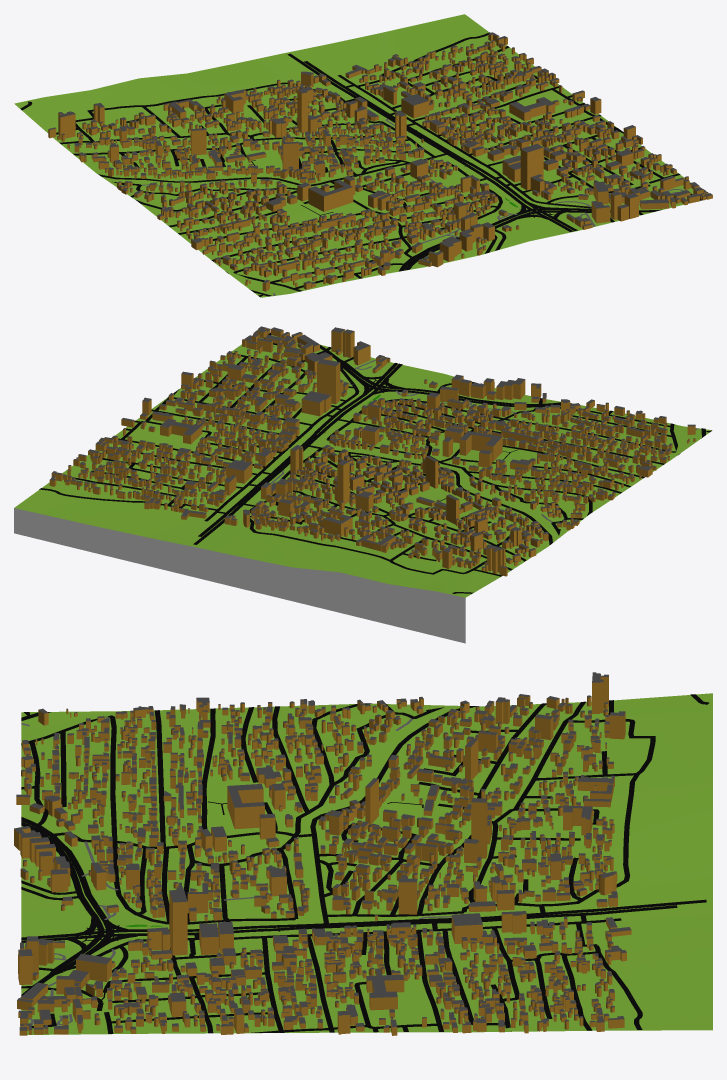
Rendered from tile_05_07.glb.
3 views of the same model, one above another, from view 1: azimuth 30°, elevation 25°; view 2: azimuth 150°, elevation 25°; view 3: azimuth 270°, elevation 25° (orthographic). The views are drawn at different scales.
Visible parts, largest first — view 1: Ub_small.osm_buildings_05_07, Terrain_05_07, Ub_small.osm_roads_residential_05_07, Ub_small.osm_roads_secondary_05_07, Ub_small.osm_roads_primary_05_07, Ub_small.osm_roads_tertiary_05_07; view 2: Ub_small.osm_buildings_05_07, Terrain_05_07, Ub_small.osm_roads_residential_05_07, Ub_small.osm_roads_secondary_05_07, Ub_small.osm_roads_primary_05_07; view 3: Ub_small.osm_buildings_05_07, Terrain_05_07, Ub_small.osm_roads_residential_05_07, Ub_small.osm_roads_secondary_05_07, Ub_small.osm_roads_primary_05_07, Ub_small.osm_roads_tertiary_05_07, Ub_small.osm_roads_service_05_07.
Boxes of the visible parts, x1=… form: Ub_small.osm_buildings_05_07: x1=48, y1=32, x2=712, y2=291; Terrain_05_07: x1=14, y1=14, x2=700, y2=297; Ub_small.osm_roads_residential_05_07: x1=20, y1=32, x2=702, y2=296; Ub_small.osm_roads_secondary_05_07: x1=251, y1=53, x2=577, y2=296; Ub_small.osm_roads_primary_05_07: x1=398, y1=202, x2=661, y2=271; Ub_small.osm_roads_tertiary_05_07: x1=98, y1=153, x2=446, y2=186; Ub_small.osm_buildings_05_07: x1=49, y1=326, x2=695, y2=576; Terrain_05_07: x1=14, y1=335, x2=712, y2=643; Ub_small.osm_roads_residential_05_07: x1=39, y1=332, x2=711, y2=593; Ub_small.osm_roads_secondary_05_07: x1=193, y1=363, x2=705, y2=544; Ub_small.osm_roads_primary_05_07: x1=320, y1=345, x2=573, y2=407; Ub_small.osm_buildings_05_07: x1=14, y1=672, x2=631, y2=1035; Terrain_05_07: x1=21, y1=693, x2=712, y2=1034; Ub_small.osm_roads_residential_05_07: x1=21, y1=694, x2=709, y2=1033; Ub_small.osm_roads_secondary_05_07: x1=21, y1=712, x2=706, y2=942; Ub_small.osm_roads_primary_05_07: x1=21, y1=817, x2=137, y2=996; Ub_small.osm_roads_tertiary_05_07: x1=310, y1=706, x2=475, y2=923; Ub_small.osm_roads_service_05_07: x1=21, y1=718, x2=451, y2=1025.
Size of the model in its own units: 997 by 144 by 937.
